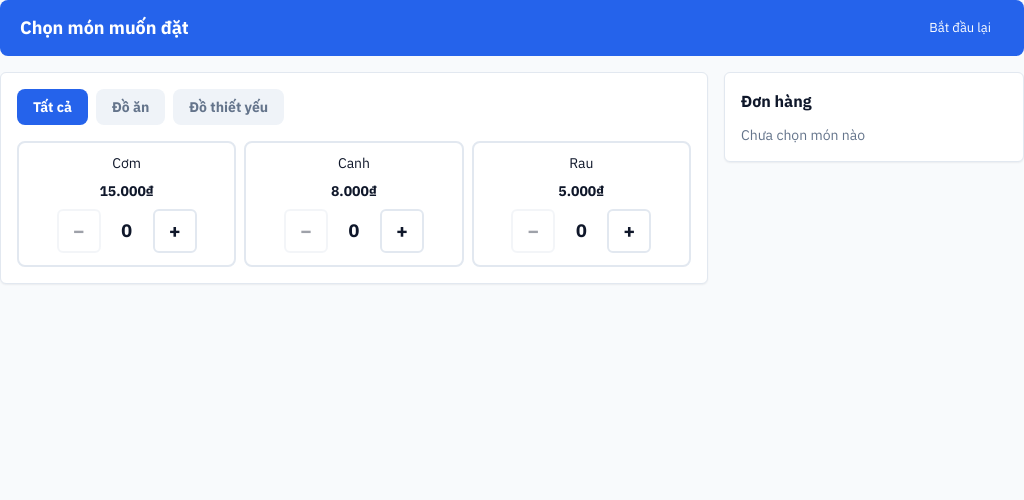
Test case: MenuCalculator — global-menu order builder › subtotal sums unit_price × quantity across lines
The image size is (1024, 500).
Click the button "+" below "15.000" at (175, 230), box [153,208,197,252]
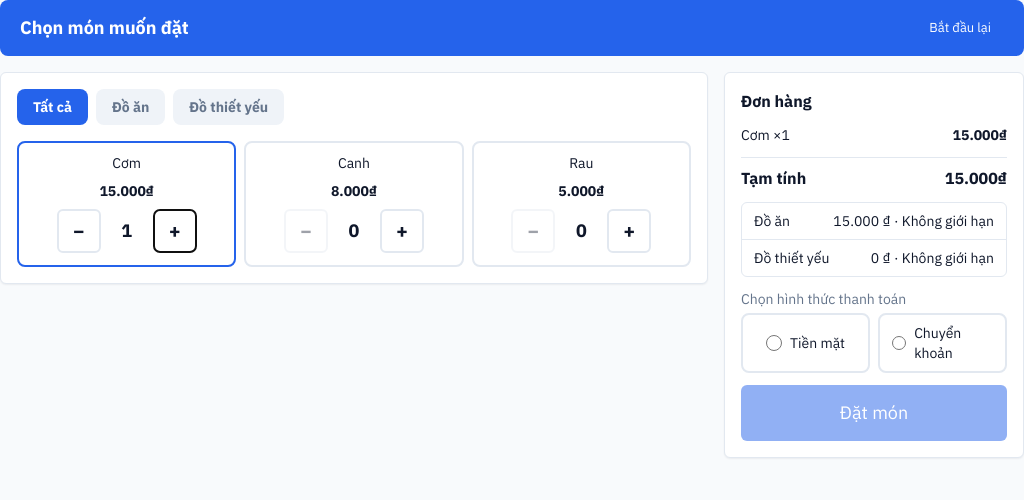
Click the 1st button "+" at (175, 230), box [153,208,197,252]
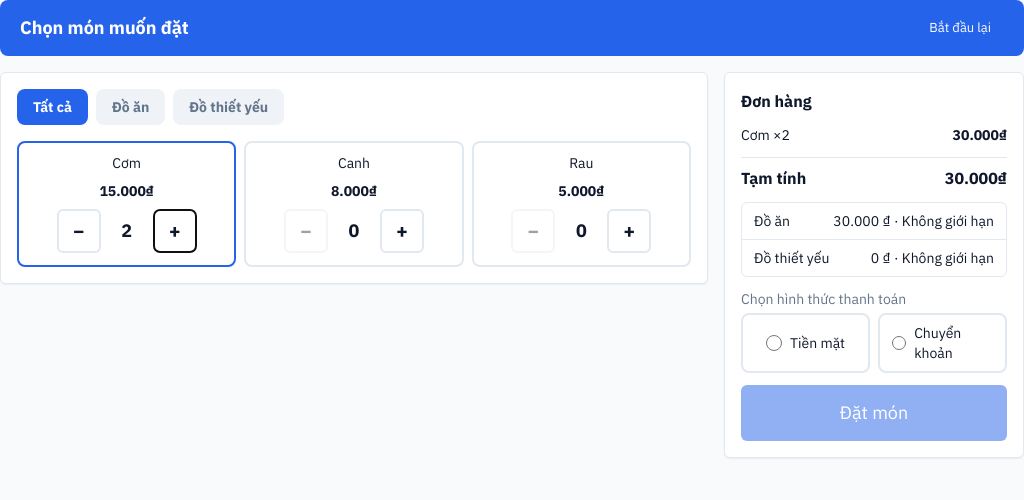
Click the button "+" below "Rau" at (629, 230), box [607,208,651,252]
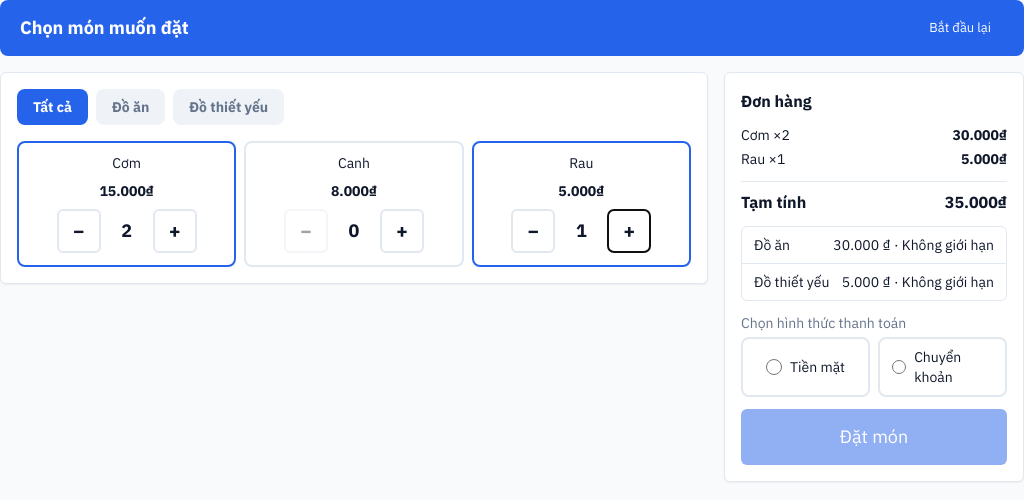
Expected: the element with test id "subtotal" shows "35.000", [945,192,998,212]
